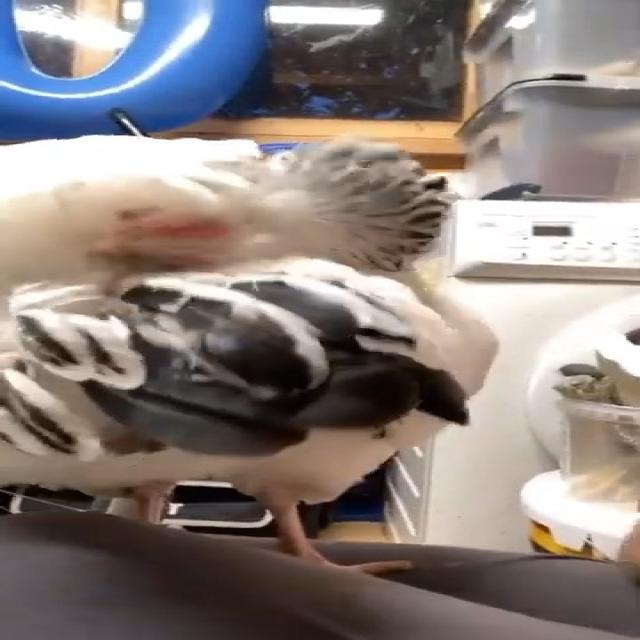self preening: (0, 148, 519, 530)
